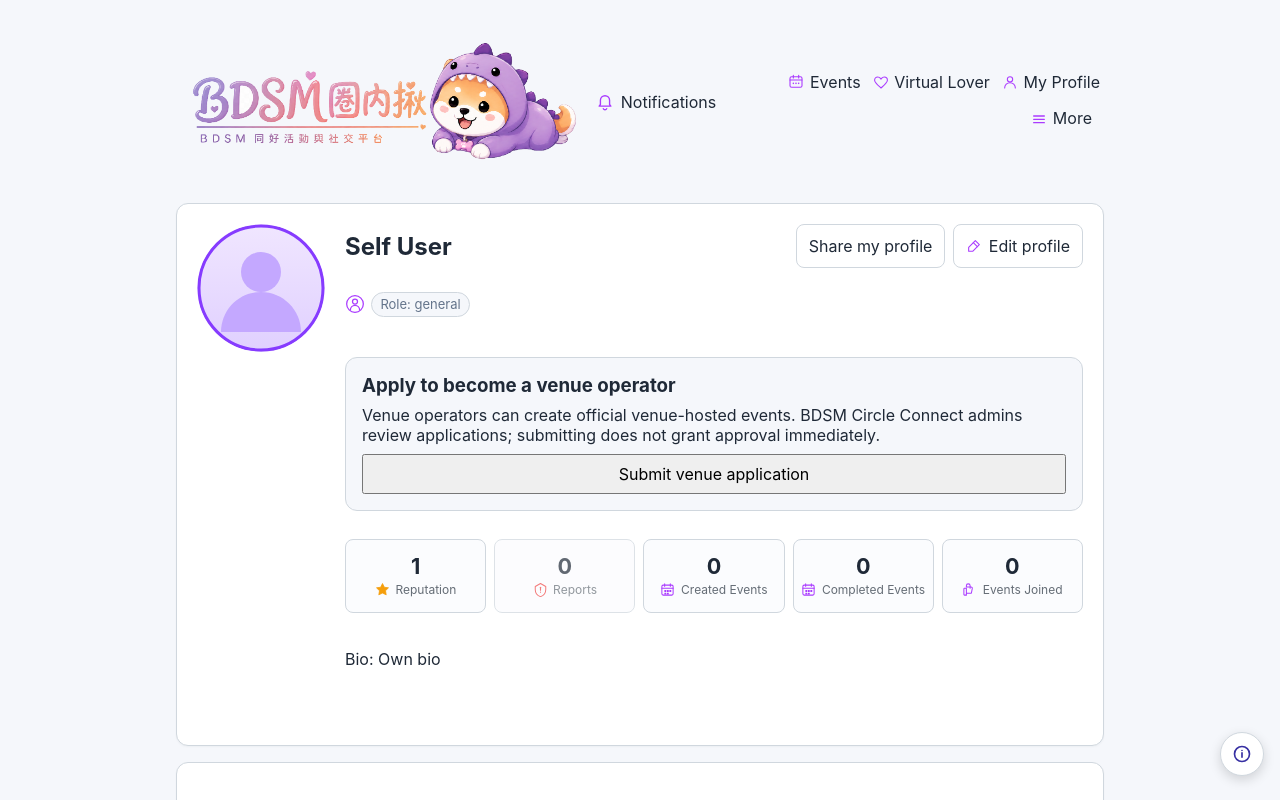
Test case: ProfilePage › opens the profile share dialog for the owner
Click the button "Share my profile" at (871, 246), box [796, 224, 945, 268]
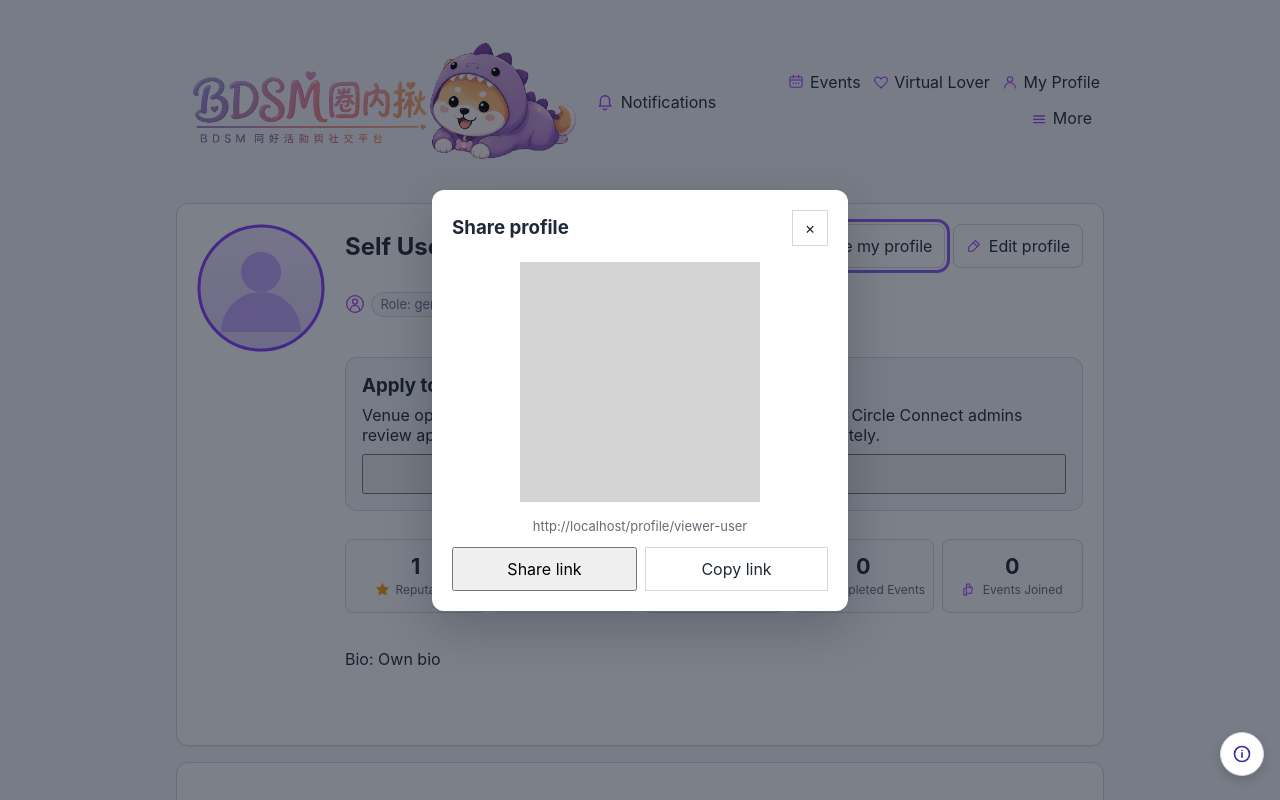
Result: the dialog "Share profile" is shown at [432, 190, 848, 610]
